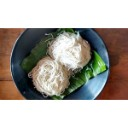idiyappam: (48, 34, 89, 68), (30, 61, 68, 94)
